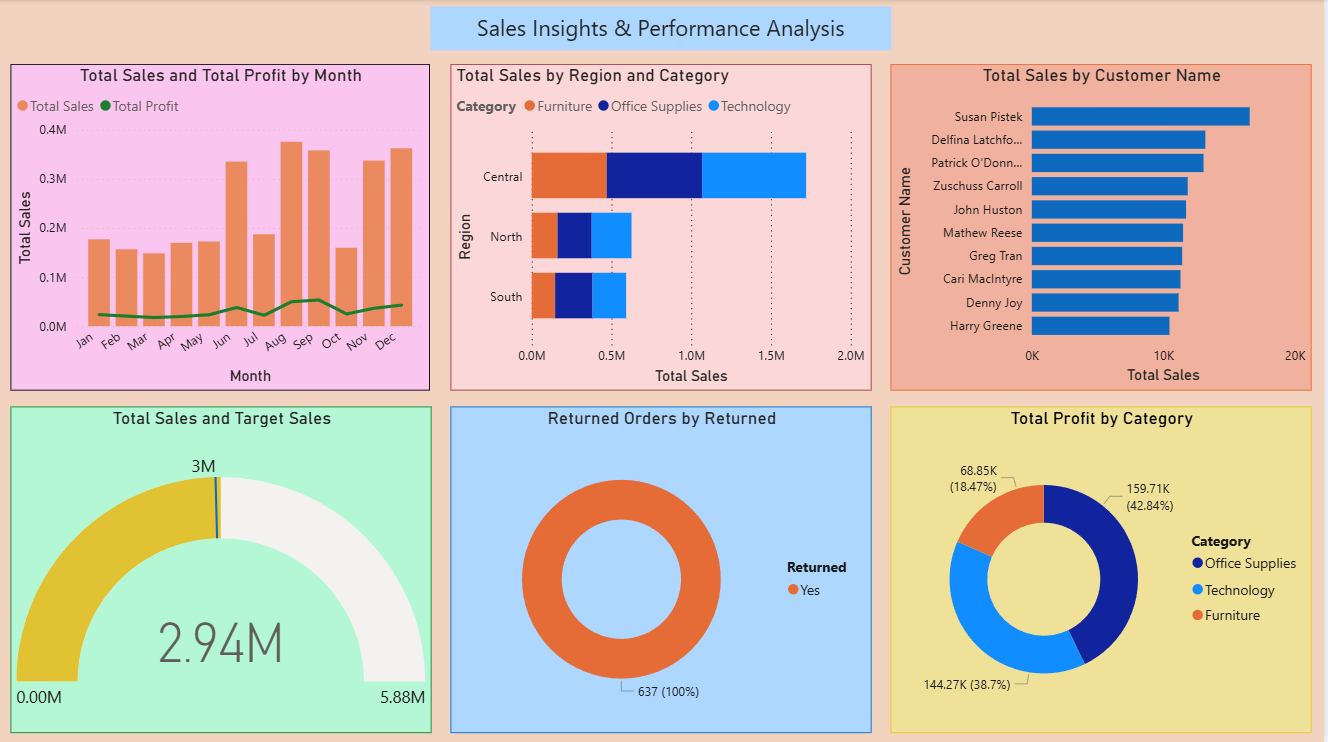

The page's visual inventory and layout, read from the dashboard file:
{"tool":"powerbi","page":{"name":"Sales Insights & Performance Analysis","canvas":[1280,720],"ordinal":1},"visuals":[{"type":"lineClusteredColumnComboChart","fields":{"Category":["DateTable.Month"],"Y":["Orders.Total Sales"],"Y2":["Orders.Total Profit"]},"box":[11.7,63.3,405,315],"z":0},{"type":"barChart","fields":{"Category":["Orders.Region"],"Y":["Orders.Total Sales"],"Series":["Orders.Category"]},"box":[436.7,63.3,406.7,315],"z":1000},{"type":"clusteredBarChart","fields":{"Category":["Orders.Customer Name"],"Y":["Orders.Total Sales"]},"box":[861.7,63.3,406.7,315],"z":2000},{"type":"gauge","fields":{"Y":["Orders.Total Sales"],"TargetValue":["Target.Target Sales"]},"box":[11.7,393.3,406.7,315],"z":3000},{"type":"donutChart","fields":{"Y":["Returns.Returned Orders"],"Category":["Returns.Returned"]},"box":[436.7,393.3,406.7,315],"z":3001},{"type":"donutChart","fields":{"Category":["Orders.Category"],"Y":["Orders.Total Profit"]},"box":[861.7,393.3,406.7,315],"z":3002},{"type":"textbox","box":[416.9,7.7,444.6,42.3],"z":3003}]}

Visuals, with their boxes in screenshot pixels (x1, y1, x2, y2), scaled from the page's 1280x720 canvas onto the 1328x742 screenshot:
lineClusteredColumnComboChart - DateTable.Month x Orders.Total Sales: 12 65 432 390
barChart - Orders.Region x Orders.Total Sales: 453 65 875 390
clusteredBarChart - Orders.Customer Name x Orders.Total Sales: 894 65 1316 390
gauge - Orders.Total Sales x Target.Target Sales: 12 405 434 730
donutChart - Returns.Returned Orders x Returns.Returned: 453 405 875 730
donutChart - Orders.Category x Orders.Total Profit: 894 405 1316 730
textbox: 433 8 894 52
